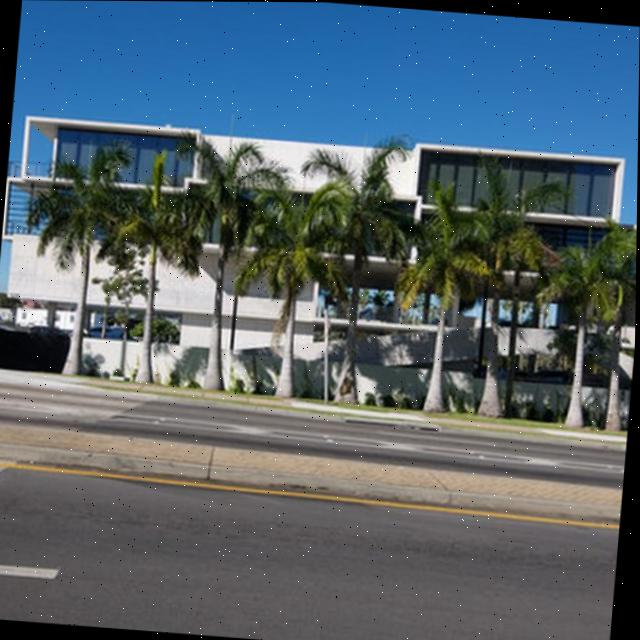building: (0, 107, 638, 434)
